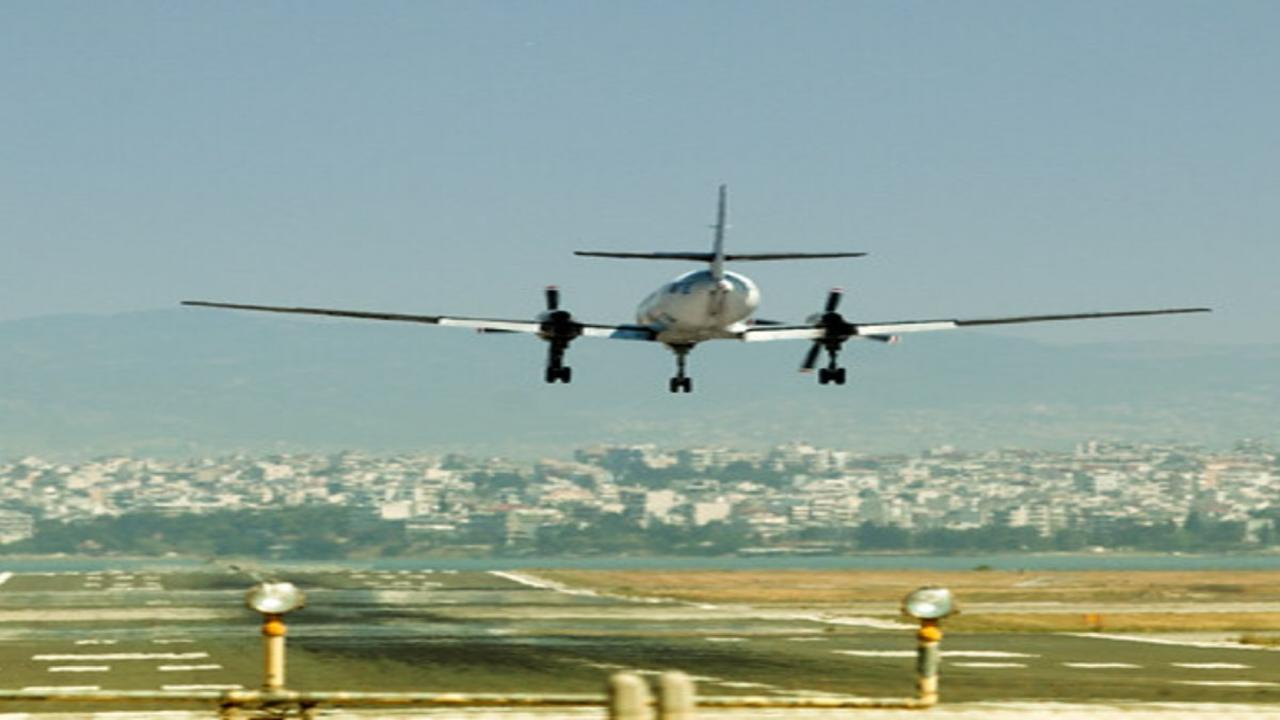Airplane: (161, 178, 1231, 402)
